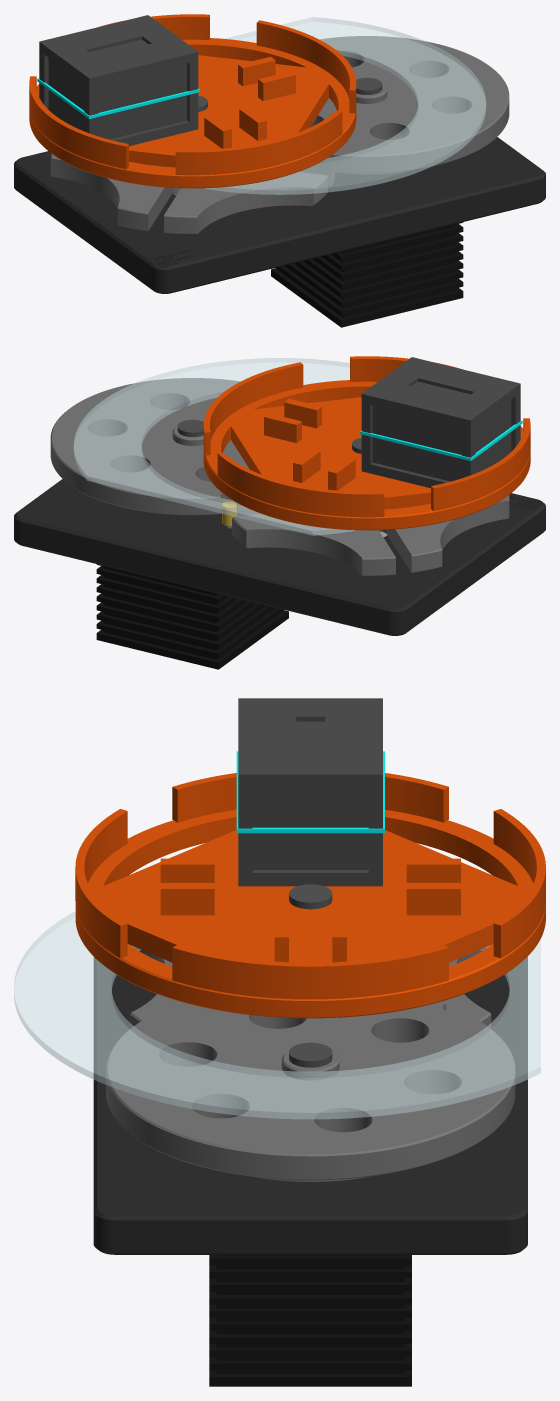
Rendered from geneva_drive_assembly.glb.
3 renders of one model, top to bottom at view 1: azimuth 30°, elevation 25°; view 2: azimuth 150°, elevation 25°; view 3: azimuth 270°, elevation 25°, orthographic. The views are drawn at different scales.
Visible parts, largest first — view 1: 01_base_plate, 11_turntable_cross, 02_drive_wheel, 14_safety_shroud, 12_cargo_pod, 13_servo_motor, 04_geneva_wheel, 15_led_ring, 08_end_cap_drive; view 2: 01_base_plate, 11_turntable_cross, 02_drive_wheel, 12_cargo_pod, 14_safety_shroud, 13_servo_motor, 04_geneva_wheel, 15_led_ring, 08_end_cap_drive; view 3: 11_turntable_cross, 02_drive_wheel, 01_base_plate, 14_safety_shroud, 13_servo_motor, 12_cargo_pod, 04_geneva_wheel, 15_led_ring, 08_end_cap_geneva, 08_end_cap_drive.
Boxes of the visible parts, x1,y1,x2,y2 form: 01_base_plate: [14, 137, 545, 293]; 11_turntable_cross: [29, 14, 356, 188]; 02_drive_wheel: [309, 36, 509, 174]; 14_safety_shroud: [203, 17, 486, 194]; 12_cargo_pod: [39, 15, 198, 146]; 13_servo_motor: [271, 222, 463, 327]; 04_geneva_wheel: [50, 153, 334, 233]; 15_led_ring: [37, 78, 199, 118]; 08_end_cap_drive: [356, 77, 382, 94]; 01_base_plate: [14, 479, 545, 635]; 11_turntable_cross: [203, 356, 530, 530]; 02_drive_wheel: [50, 378, 250, 515]; 12_cargo_pod: [361, 357, 520, 488]; 14_safety_shroud: [73, 358, 356, 535]; 13_servo_motor: [96, 564, 288, 669]; 04_geneva_wheel: [227, 495, 509, 575]; 15_led_ring: [360, 420, 522, 460]; 08_end_cap_drive: [177, 419, 203, 436]; 11_turntable_cross: [75, 773, 545, 1018]; 02_drive_wheel: [106, 1002, 515, 1181]; 01_base_plate: [93, 956, 527, 1254]; 14_safety_shroud: [14, 911, 540, 1119]; 13_servo_motor: [209, 1255, 411, 1386]; 12_cargo_pod: [238, 698, 382, 886]; 04_geneva_wheel: [130, 945, 491, 1028]; 15_led_ring: [236, 751, 384, 833]; 08_end_cap_geneva: [289, 884, 332, 909]; 08_end_cap_drive: [289, 1042, 332, 1067].
Size of the model in its own units: 202 by 132 by 147.
